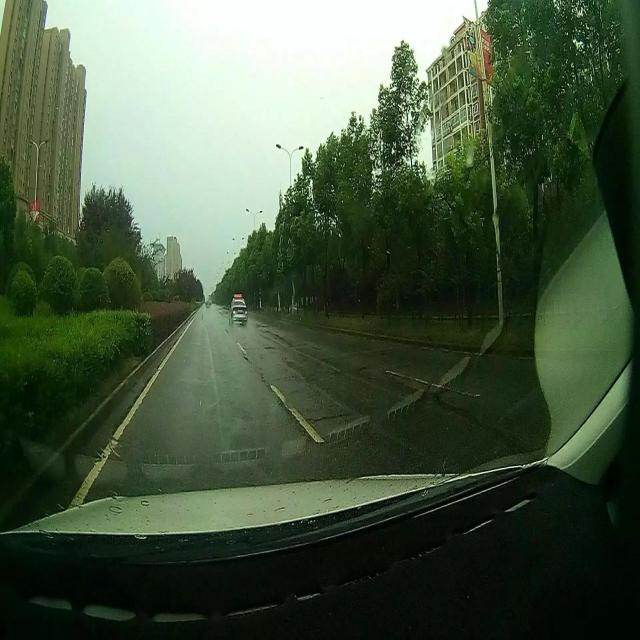car: (228, 294, 248, 326)
